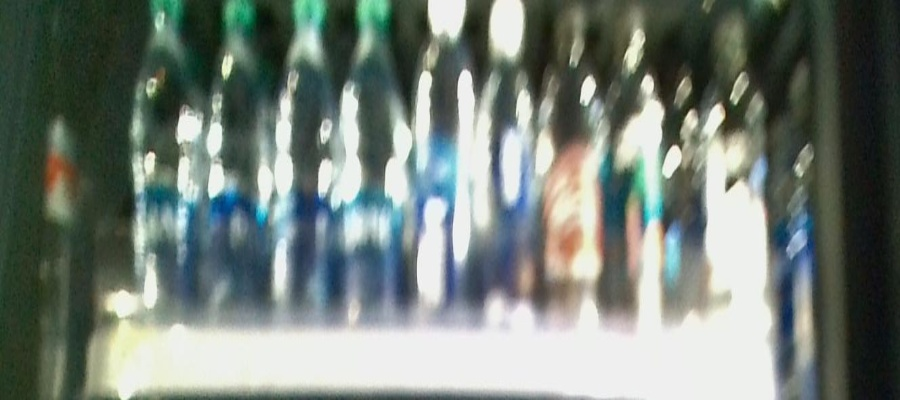bottle: (129, 5, 198, 327), (540, 4, 607, 328), (339, 6, 404, 331), (409, 4, 473, 333), (209, 6, 270, 325), (277, 1, 336, 320), (479, 1, 534, 325), (612, 10, 666, 328)
